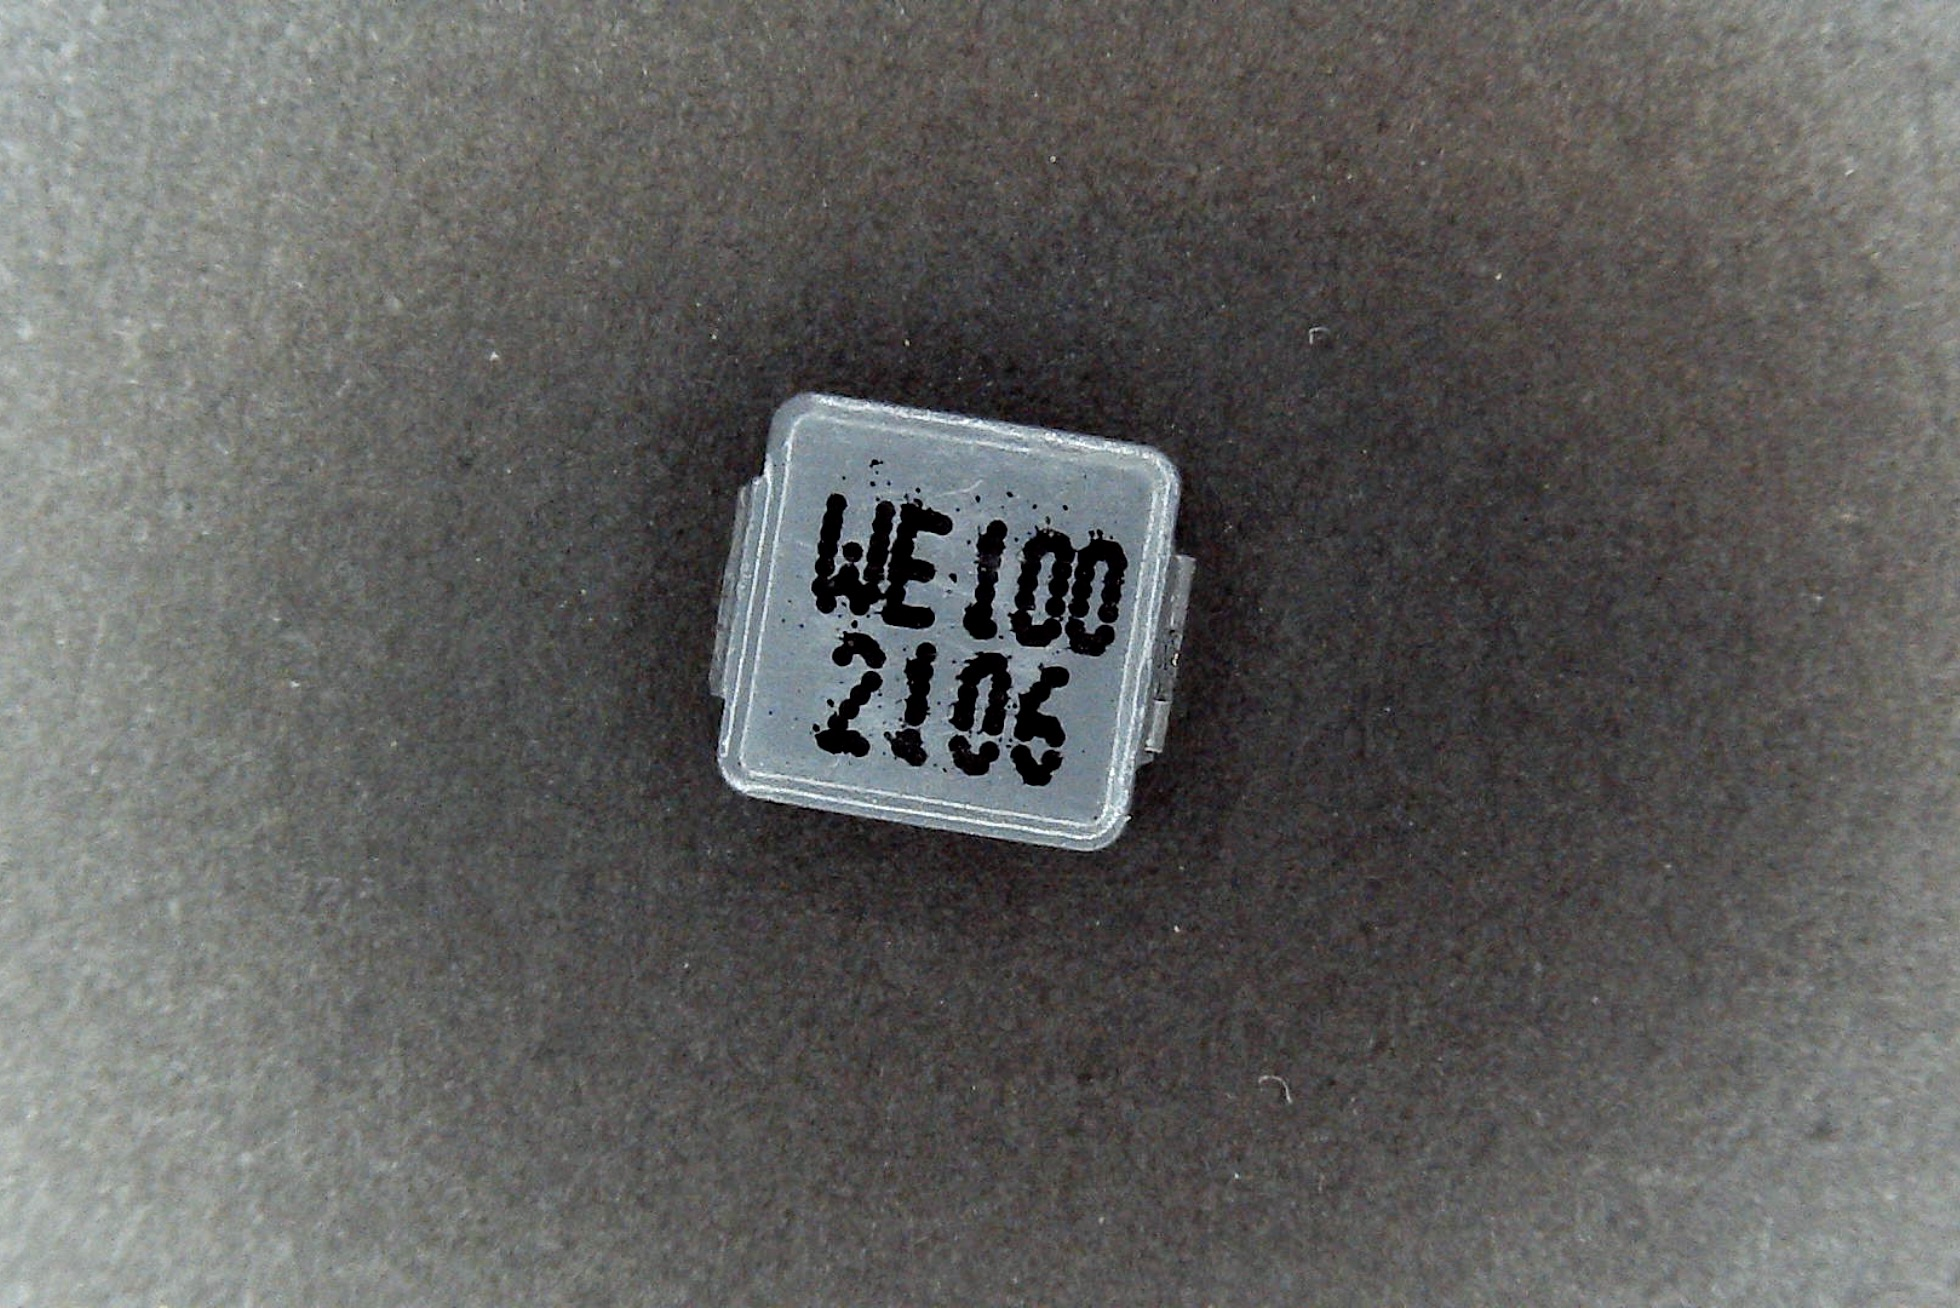bbox: (708, 393, 1198, 858)
